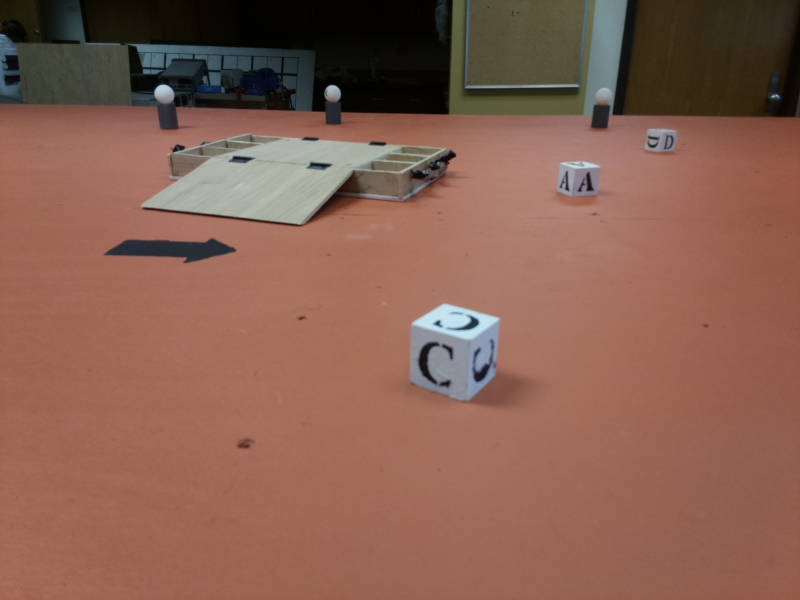blockA: (557, 159, 602, 199)
blockC: (406, 306, 510, 400)
blockD: (638, 126, 682, 157)
obstacle: (153, 83, 178, 135), (588, 83, 613, 134), (323, 83, 342, 123)
side: (383, 145, 472, 196)
slope: (127, 162, 370, 225)
start: (103, 233, 240, 276)
